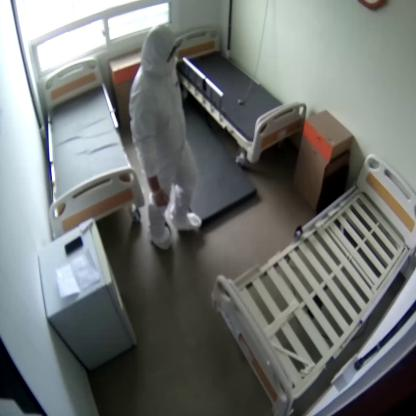Person: (130, 26, 205, 250)
